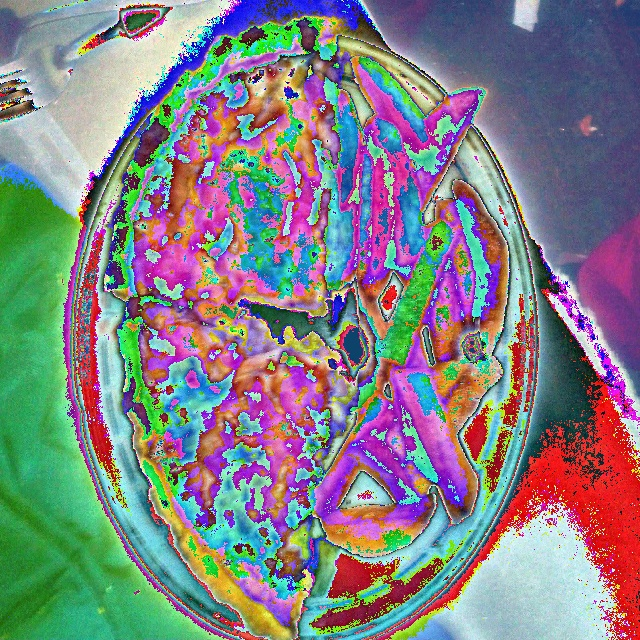background: (103, 15, 511, 639)
